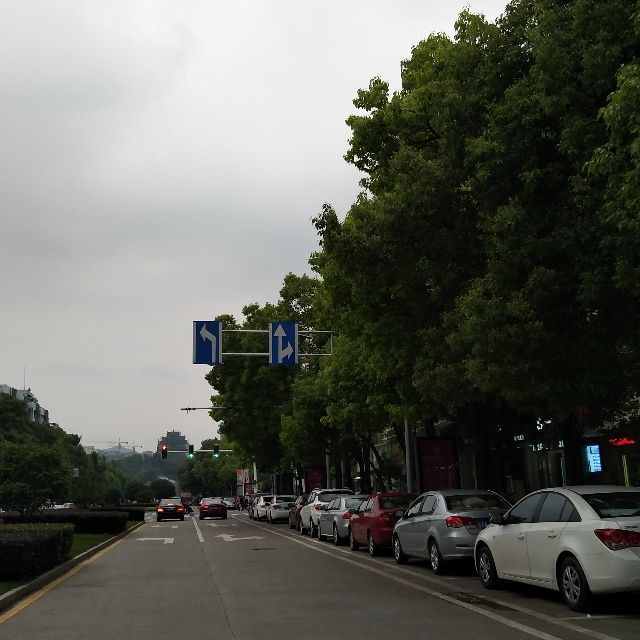left: (192, 320, 223, 365)
